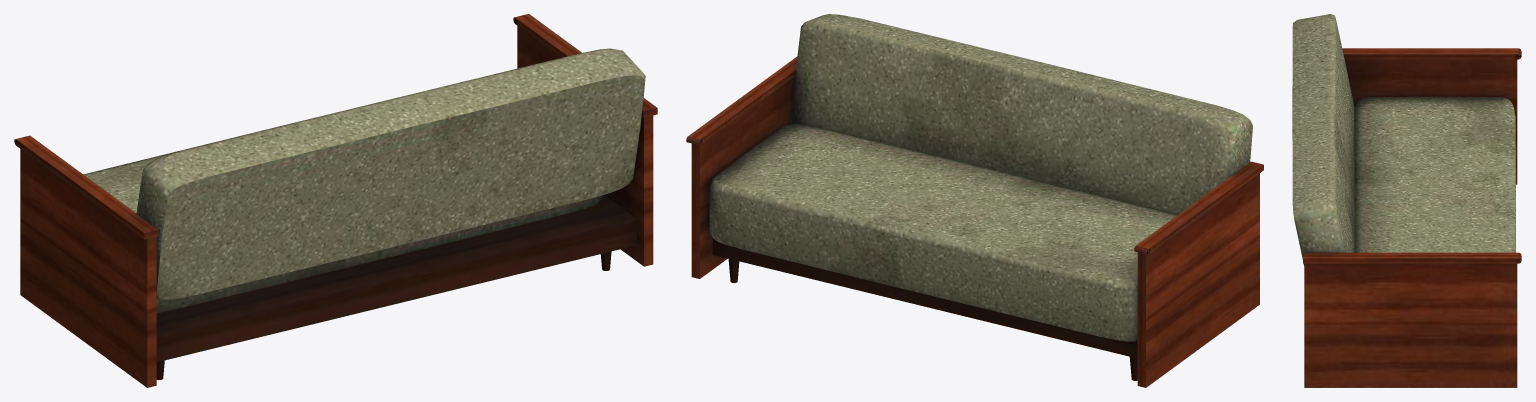
File: sofa_book_floral_lod1_web.glb
3 views of the same model, side by side, from view 1: azimuth 30°, elevation 25°; view 2: azimuth 150°, elevation 25°; view 3: azimuth 270°, elevation 25° (orthographic). The views are drawn at different scales.
Parts seen in each view (by area): view 1: SofaBookFloral_Body; view 2: SofaBookFloral_Body; view 3: SofaBookFloral_Body.
Part boxes in pixels (x1,y1,x2,y2): SofaBookFloral_Body: [14, 14, 657, 387]; SofaBookFloral_Body: [686, 14, 1263, 387]; SofaBookFloral_Body: [1292, 14, 1521, 387].
Size of the model in its own units: 2.01 by 0.8338 by 0.9251.
1 material, 1 textured.
